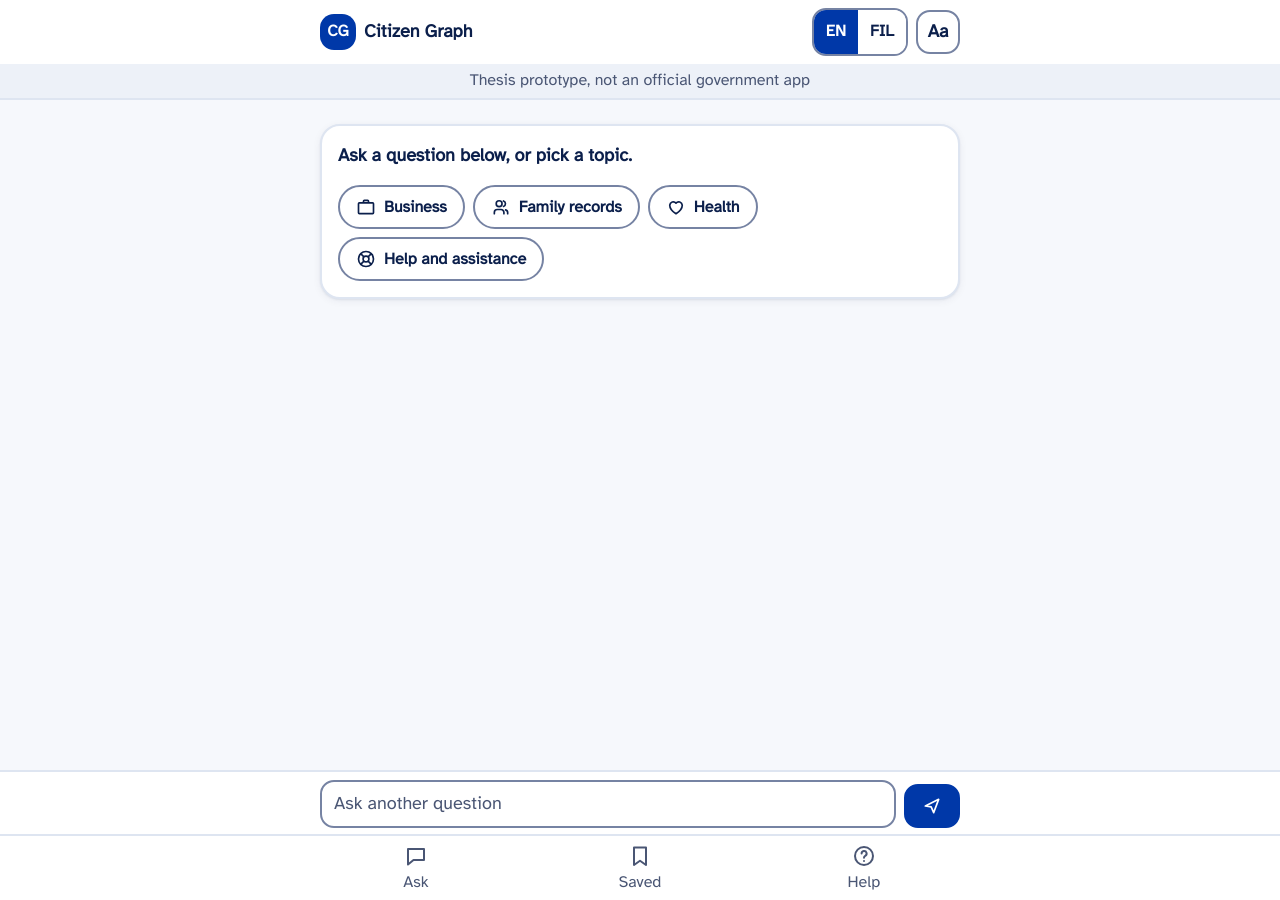
chat behaviour › asks in the chosen language
Click the button with aria-label "Filipino": (882, 32) 858,10 -> 906,54
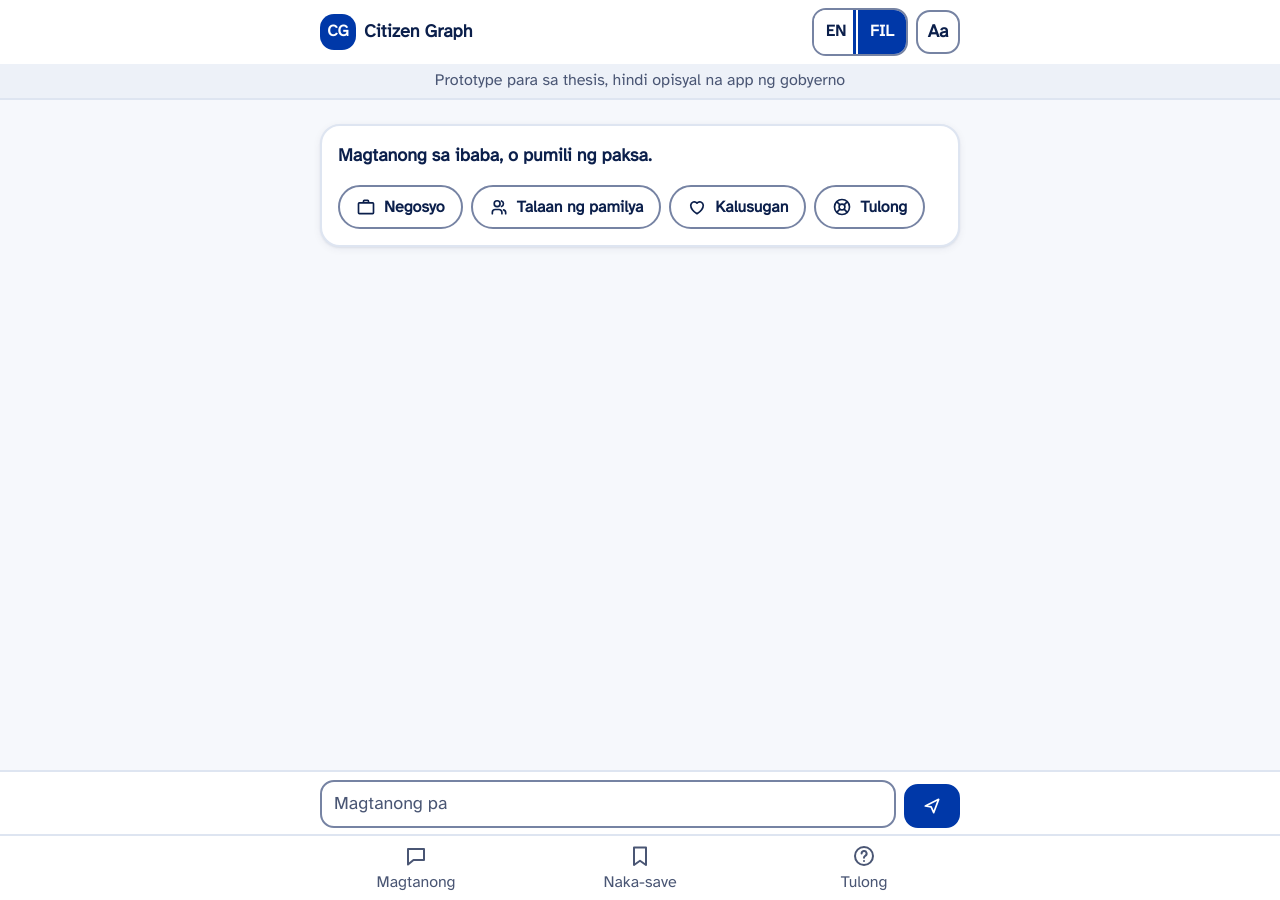
In the text box named "Ang tanong mo": (608, 804) 320,780 -> 896,828, type "hello"
Then press Enter
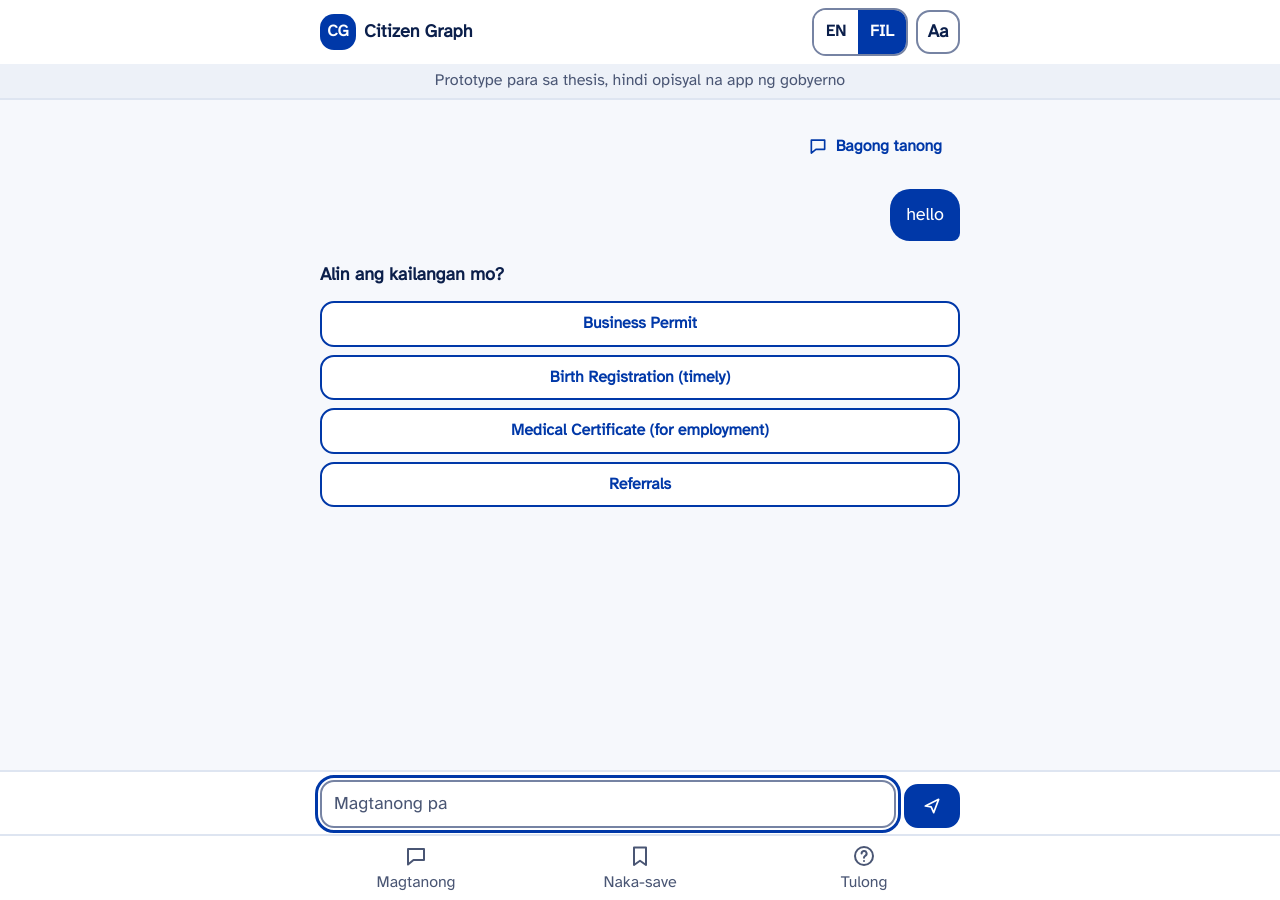
Expected: the element "Alin ang kailangan mo?" is shown, 320,261 -> 960,507
